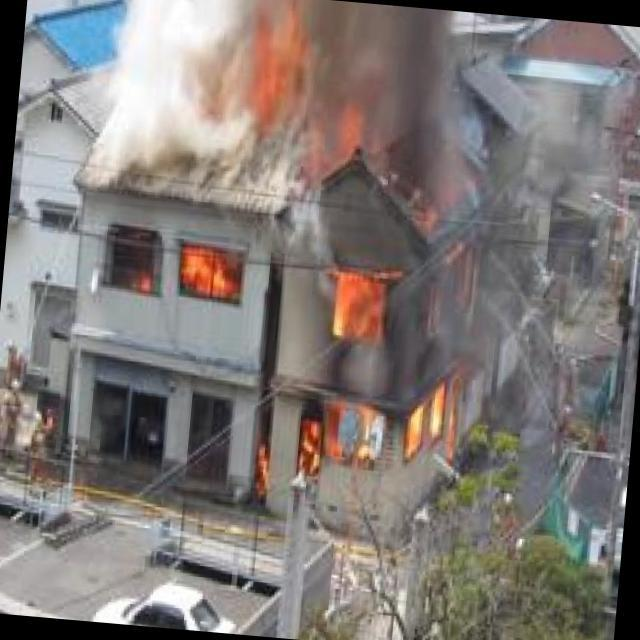Fire: (249, 175, 483, 521), (236, 1, 316, 133), (126, 247, 240, 301)
